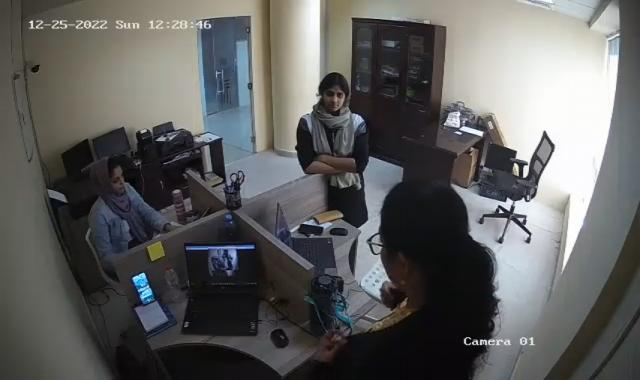no_hairnet: (366, 175, 497, 308), (318, 72, 350, 111), (94, 158, 125, 191)
